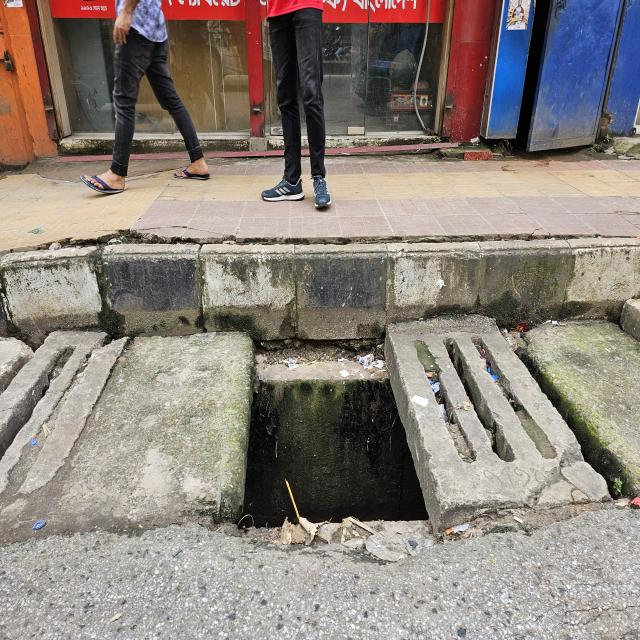drain_inlet: (242, 375, 434, 526)
